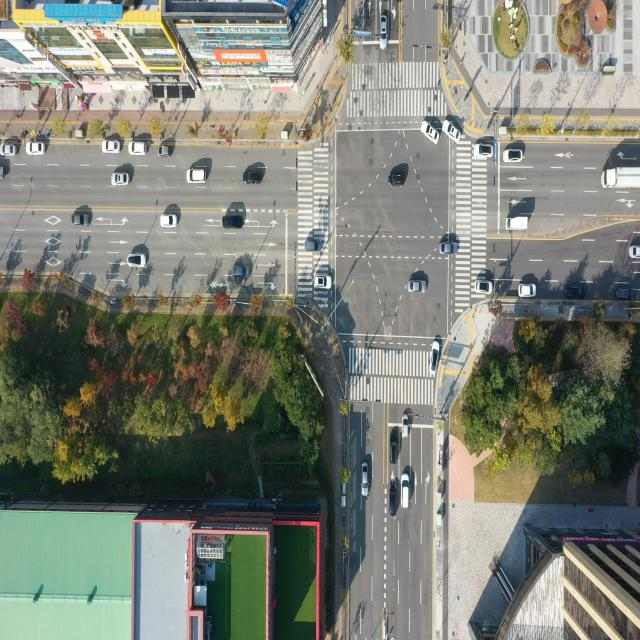car: (443, 121, 462, 144), (400, 470, 411, 508), (380, 14, 390, 55), (428, 339, 439, 376), (474, 142, 496, 160), (422, 122, 440, 144), (616, 284, 634, 301), (187, 169, 206, 185), (233, 264, 252, 280), (129, 253, 149, 268), (440, 242, 461, 256), (162, 213, 180, 229), (388, 172, 406, 188), (73, 212, 92, 227), (408, 280, 428, 294), (390, 428, 398, 463), (505, 148, 525, 162), (389, 478, 397, 513), (111, 172, 129, 187), (130, 141, 148, 156), (28, 141, 46, 156), (225, 215, 244, 229), (102, 140, 121, 154), (244, 172, 263, 186), (314, 276, 332, 290), (566, 285, 584, 299), (476, 280, 494, 294), (305, 239, 323, 253), (361, 462, 368, 496), (0, 142, 17, 156), (520, 284, 537, 298), (158, 145, 174, 158), (401, 413, 408, 438), (629, 245, 640, 259)
medium_truck: (602, 165, 640, 192)
small_truck: (506, 215, 530, 232), (0, 164, 5, 181)
